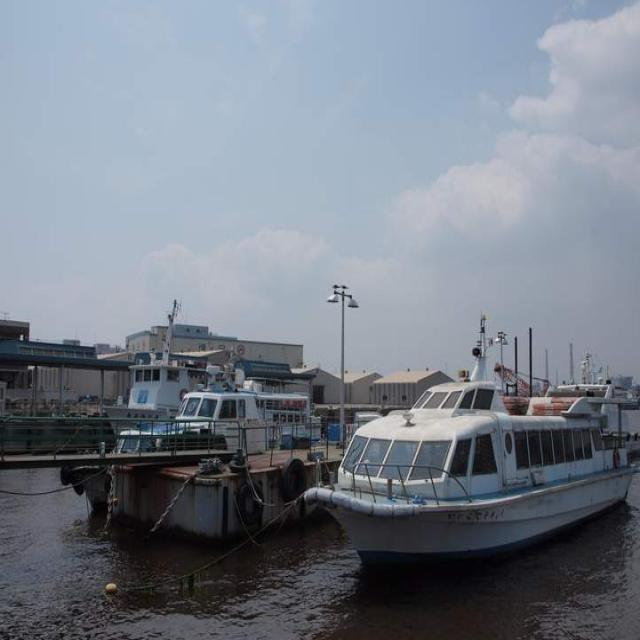houseboat: (308, 340, 640, 606)
